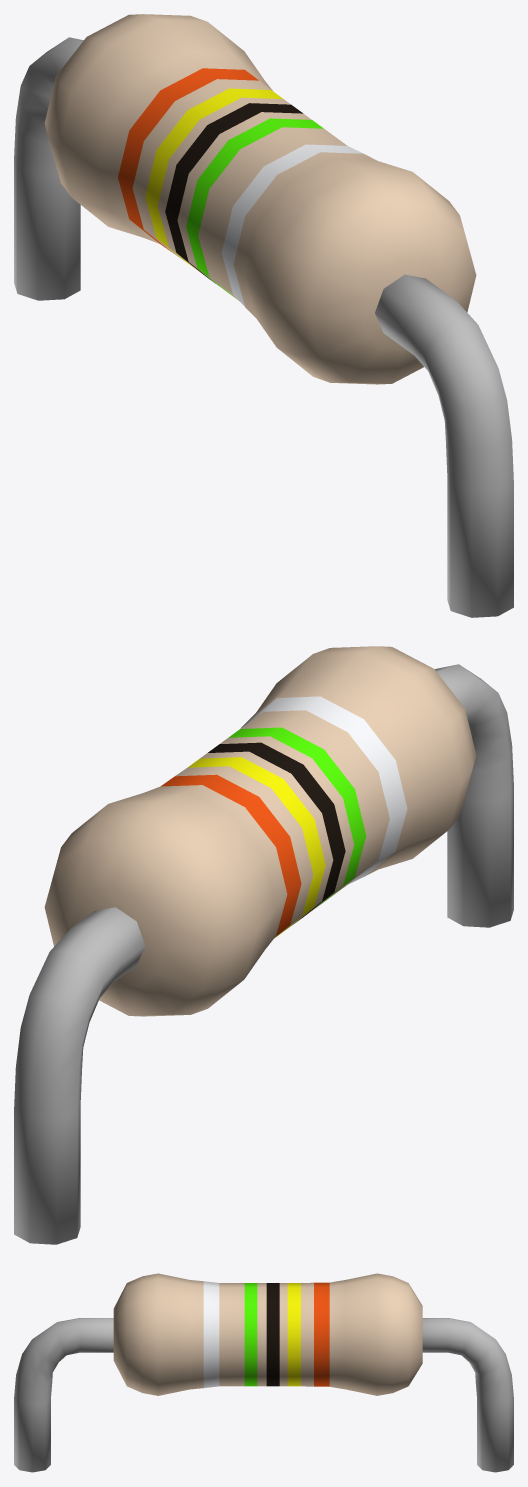
Rendered from resistor.fbx.
3 views of the same model, one above another, from view 1: azimuth 30°, elevation 25°; view 2: azimuth 150°, elevation 25°; view 3: azimuth 270°, elevation 25° (orthographic). The views are drawn at different scales.
Visible parts, largest first — view 1: resistor; view 2: resistor; view 3: resistor.
Boxes of the visible parts, x1=… form: resistor: x1=14, y1=14, x2=513, y2=617; resistor: x1=14, y1=646, x2=513, y2=1244; resistor: x1=14, y1=1273, x2=513, y2=1472.
Size of the model in its own units: 33.28 by 55.46 by 135.
